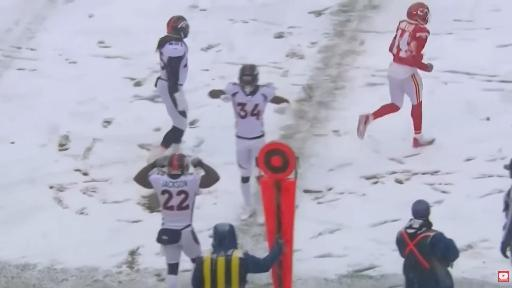Helmet: (167, 16, 189, 39), (407, 3, 429, 25), (168, 153, 189, 174), (239, 64, 258, 87)
Jersey: (149, 169, 201, 229), (222, 83, 275, 139), (388, 20, 429, 78), (159, 41, 188, 85)
Player: (209, 64, 289, 219), (134, 154, 219, 287), (358, 3, 434, 147), (148, 16, 189, 162)
